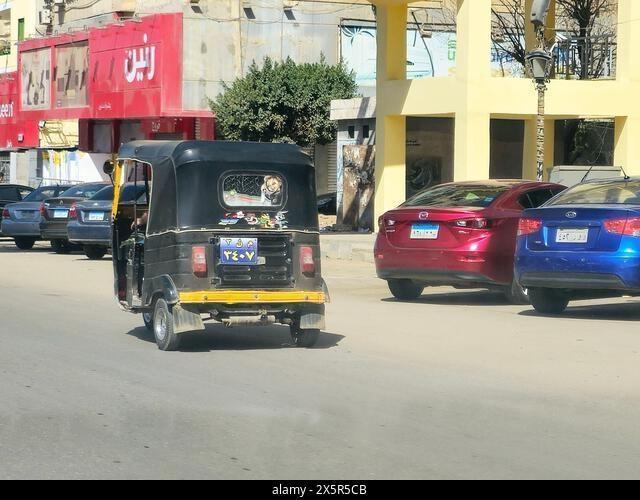keke: (107, 134, 330, 368)
